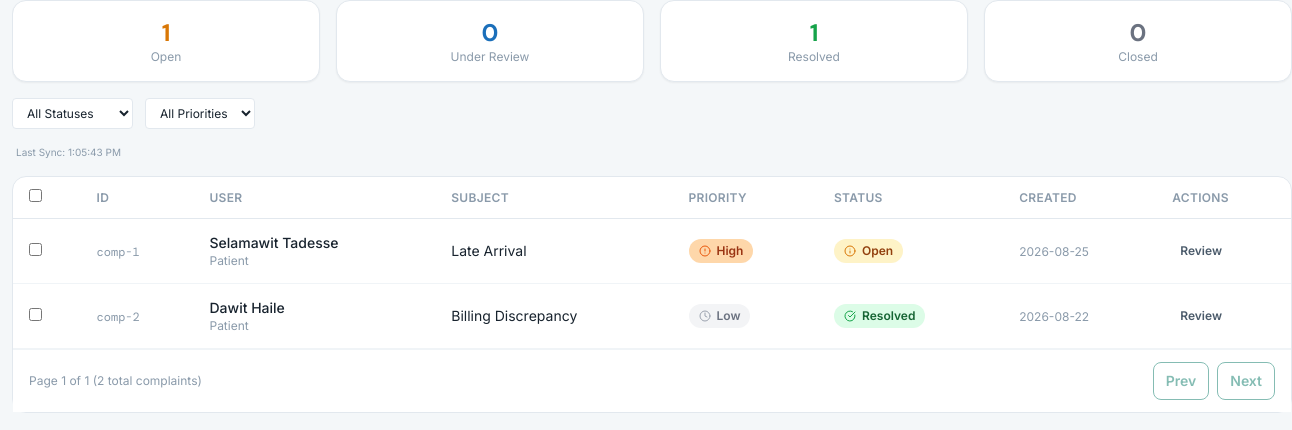
it: Admin Web - Complaints Resolution Tests › should filter complaints by status dropdown
The width and height of the screenshot is (1292, 430).
Expected: the text "Late Arrival" is shown, [451, 242, 526, 259]
Expected: the text "Billing Discrepancy" is shown, [451, 307, 577, 324]
Select "Open" in the 1st dropdown at [72, 114], box [12, 98, 133, 129]
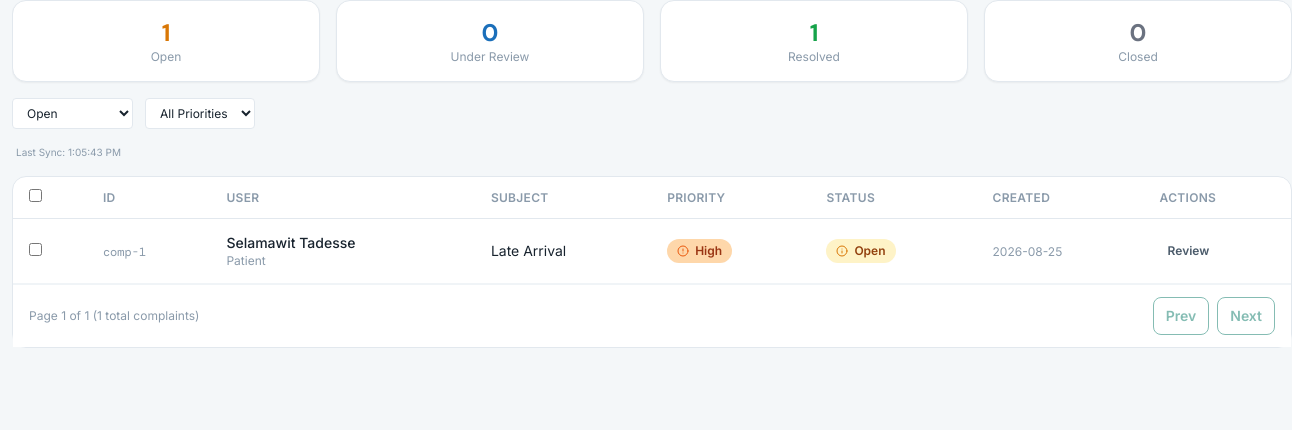
Expected: the text "Late Arrival" is shown, [491, 242, 566, 259]
Expected: the text "Billing Discrepancy" is gone
